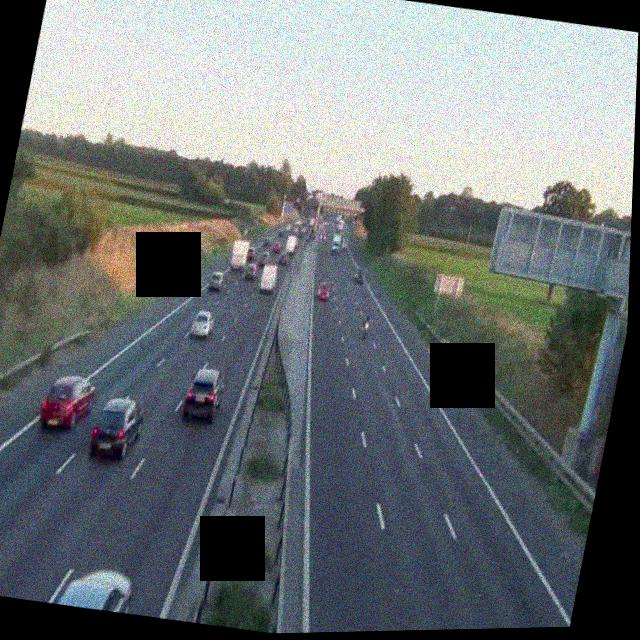car: (46, 560, 137, 615), (88, 392, 147, 463), (37, 372, 98, 434), (181, 365, 227, 425), (189, 307, 215, 339), (315, 279, 333, 302), (209, 268, 226, 292), (358, 313, 372, 336), (243, 260, 259, 279), (351, 265, 365, 283), (257, 250, 270, 266)
truck: (229, 240, 252, 272), (259, 264, 279, 292), (329, 222, 345, 251)
